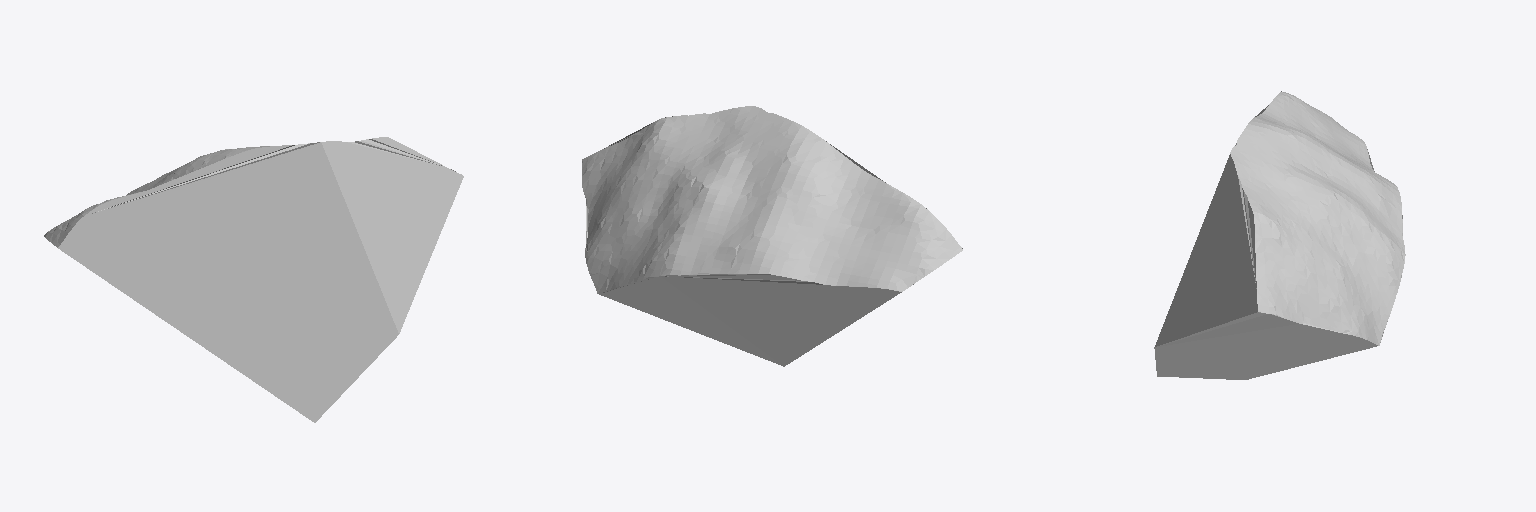
Rendered from low_cell_068.obj.
3 renders of one model, left to right at view 1: azimuth 30°, elevation 25°; view 2: azimuth 150°, elevation 25°; view 3: azimuth 270°, elevation 25°, orthographic.
Parts seen in each view (by area): view 1: low_cell.068_low_cell.067; view 2: low_cell.068_low_cell.067; view 3: low_cell.068_low_cell.067.
Part boxes in pixels (x1,y1,x2,y2): low_cell.068_low_cell.067: (44,137,463,422); low_cell.068_low_cell.067: (582,106,962,366); low_cell.068_low_cell.067: (1154,91,1405,379).
Bounding box in the file's own units: 0.8352 × 0.5015 × 0.461.